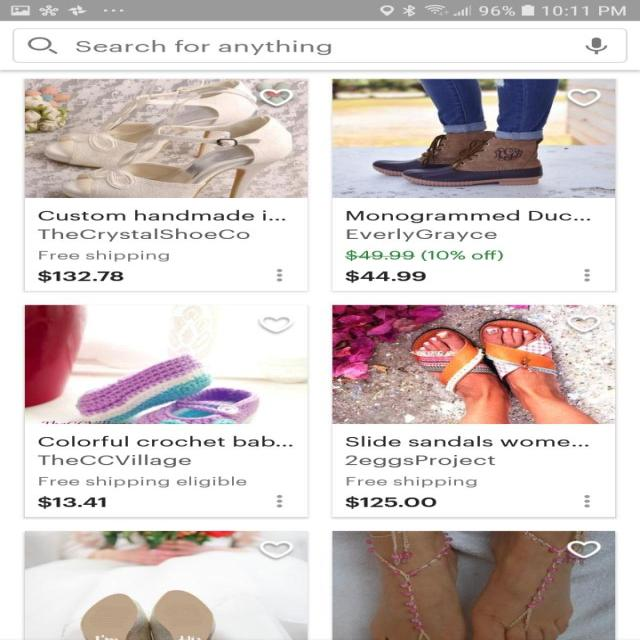EditText: (12, 28, 628, 63)
Icon: (258, 539, 294, 558), (566, 88, 601, 107), (258, 88, 294, 106), (566, 540, 601, 558), (567, 315, 600, 332), (27, 37, 58, 55), (260, 316, 294, 332), (584, 37, 607, 55), (274, 268, 282, 282), (582, 494, 590, 508), (582, 269, 590, 282), (274, 495, 282, 508)
Image: (24, 78, 308, 198), (332, 78, 616, 198), (25, 305, 308, 423), (332, 305, 614, 423), (332, 530, 616, 640), (24, 530, 308, 640)
Text: (76, 40, 330, 54), (344, 210, 590, 223), (38, 435, 292, 447), (37, 228, 250, 242), (38, 209, 286, 221), (38, 474, 246, 488), (344, 435, 588, 446), (36, 453, 192, 468), (346, 228, 497, 242), (344, 454, 495, 468), (344, 250, 503, 262), (344, 475, 476, 488), (38, 250, 170, 262), (344, 495, 436, 509), (38, 269, 124, 283), (344, 269, 426, 283), (37, 495, 107, 509)
